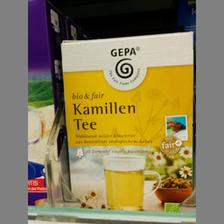Tee: (58, 30, 194, 214)
